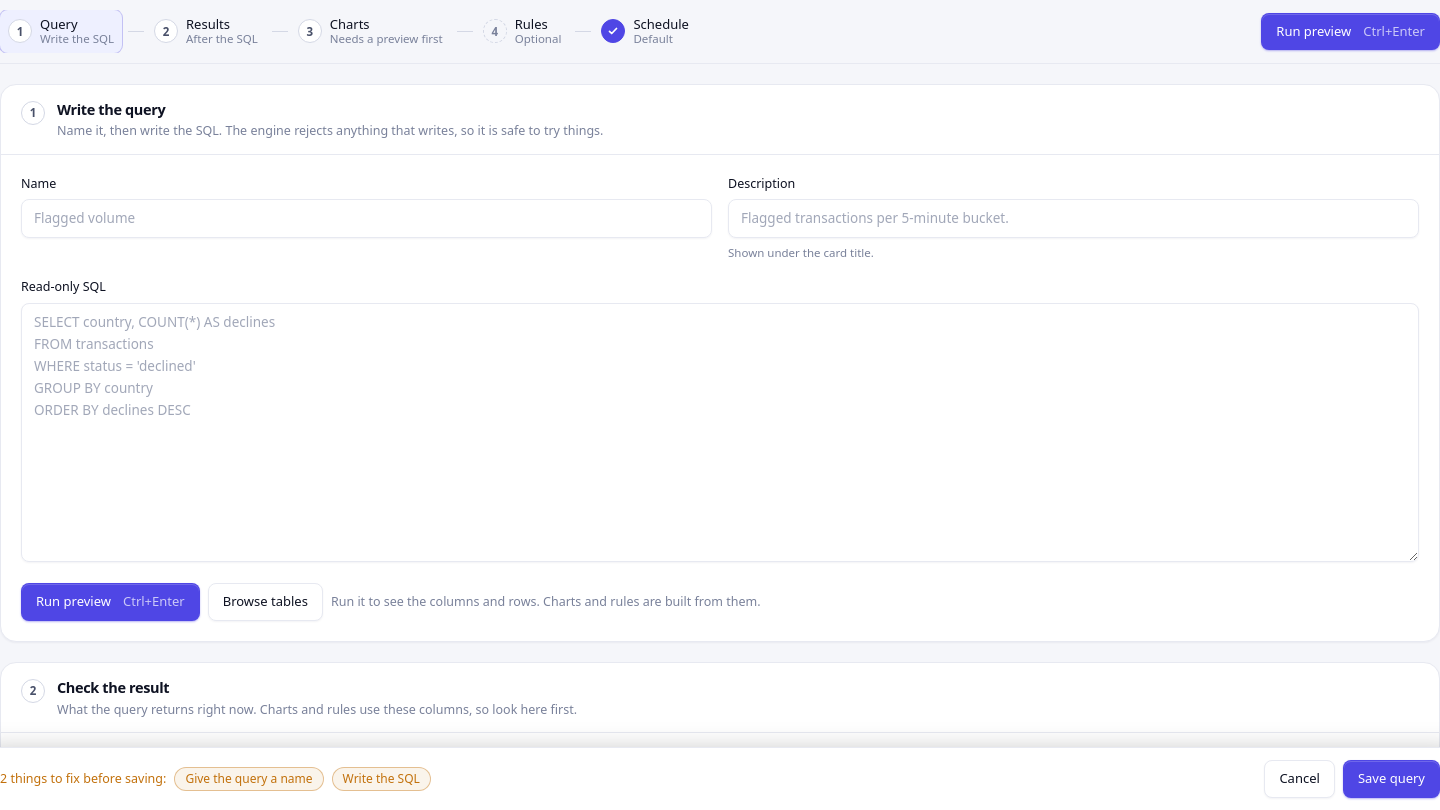
Test: rules, without losing the results › edits rules in a dialog, and the page keeps one line per rule
Step 1. Type "SELECT 1" into the text box labelled "Read-only SQL" → (720, 433), box [21,303,1419,562]
(page scrolled)
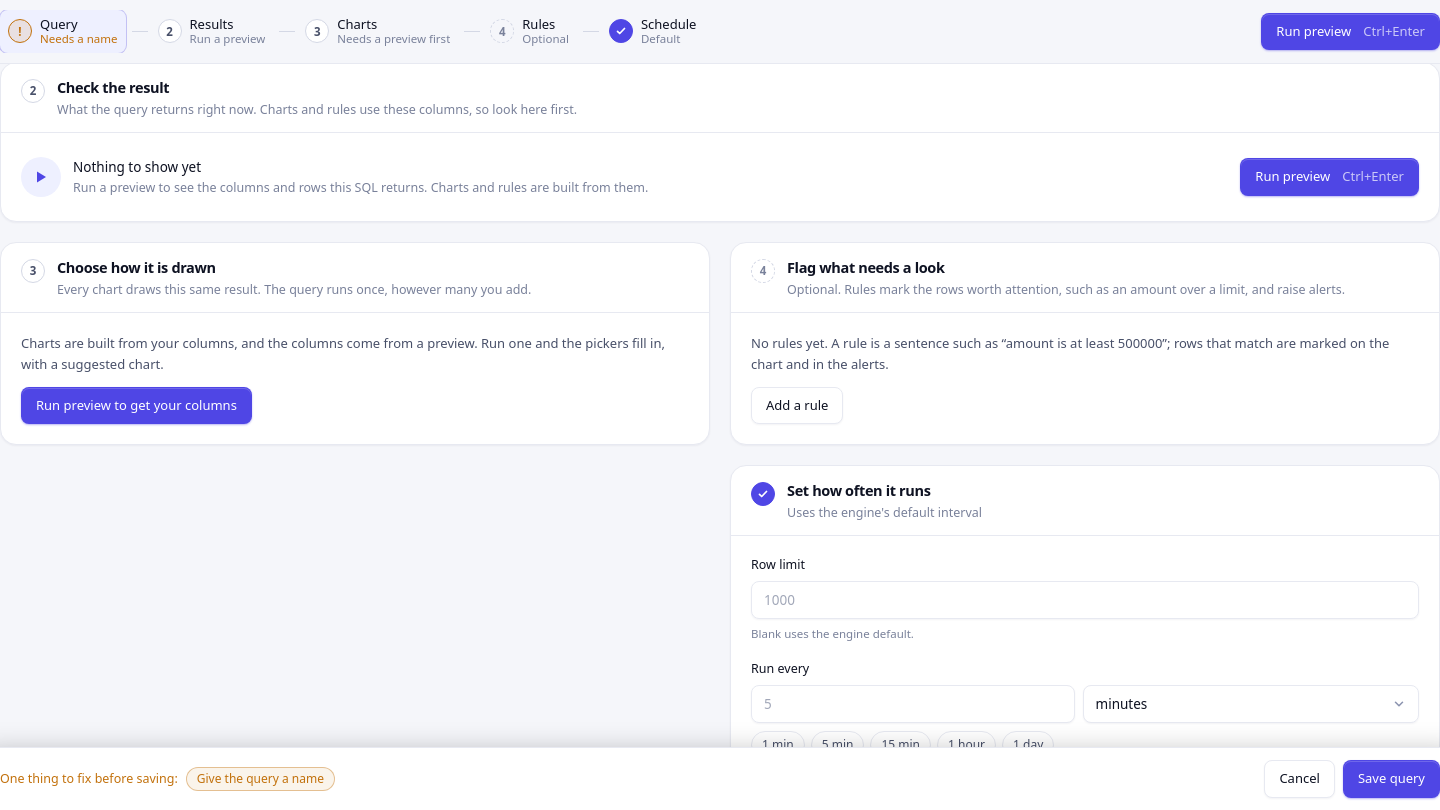
expect the text "No rules yet" is shown: met, box [751,334,1389,373]
Step 2. Click the button "Add a rule" → (797, 406), box [751,387,844,424]
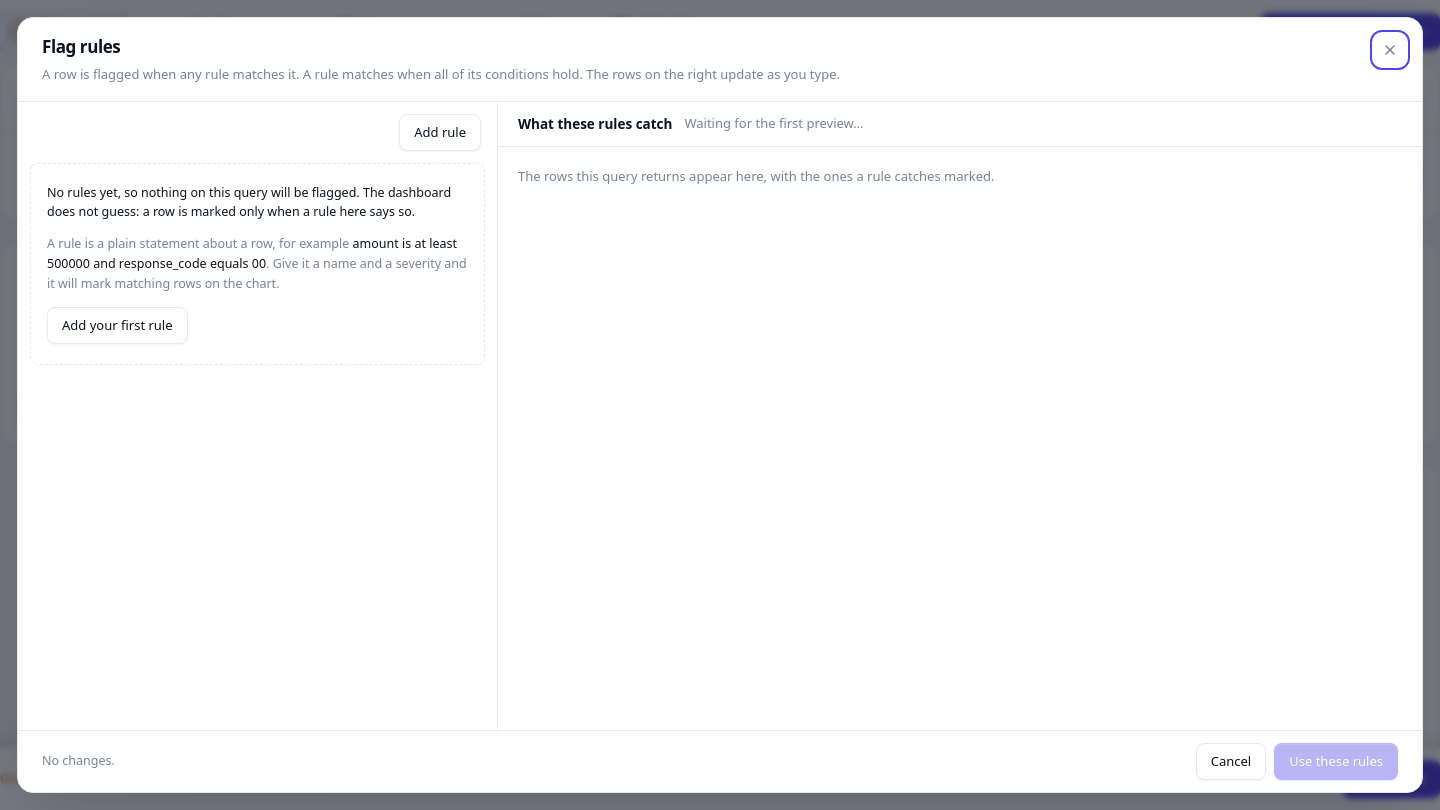
Step 3. Click the button "Add rule" → (440, 132), box [399,114,481,151]
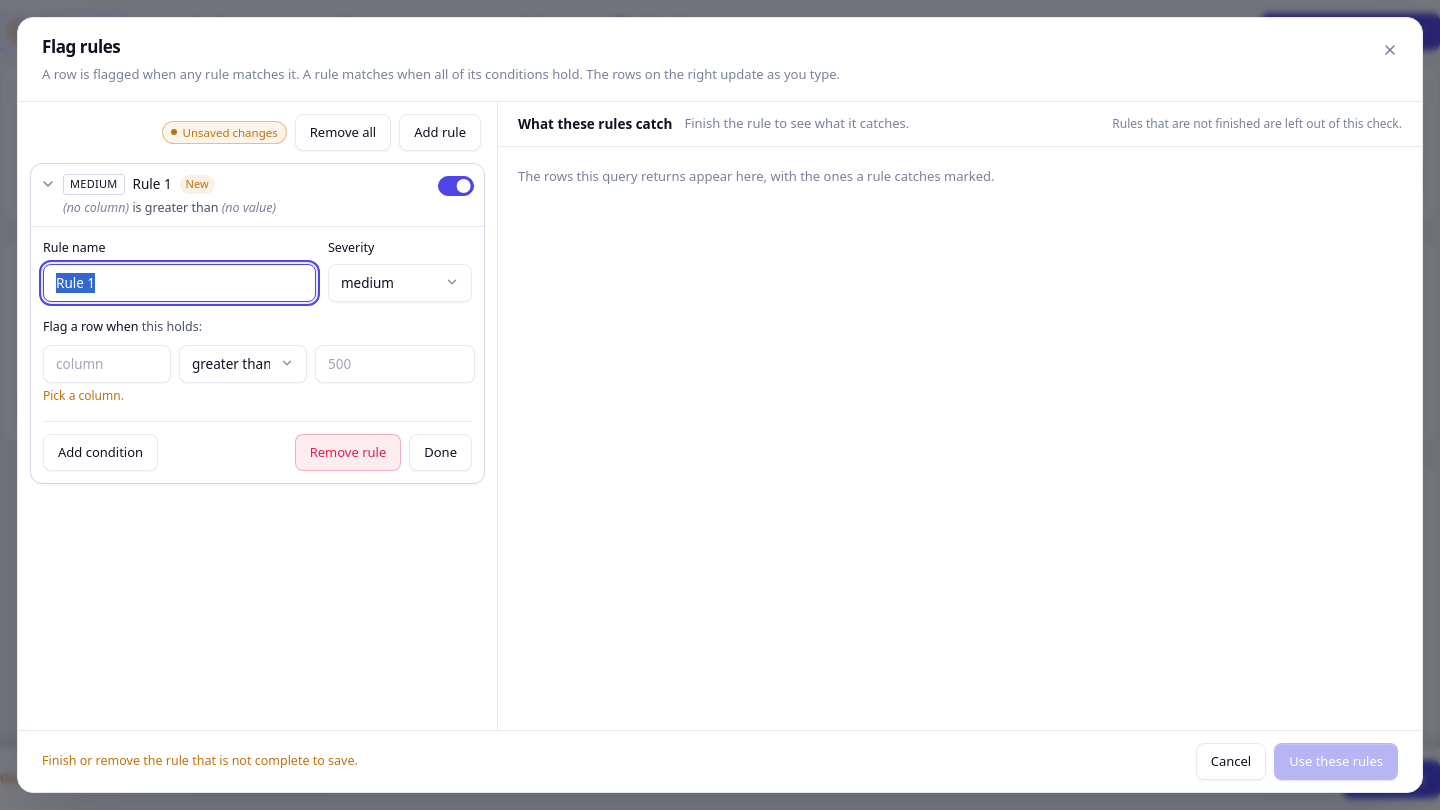
Step 4. Type "transactions" into the field labelled "column" → (107, 364), box [43,345,171,383]
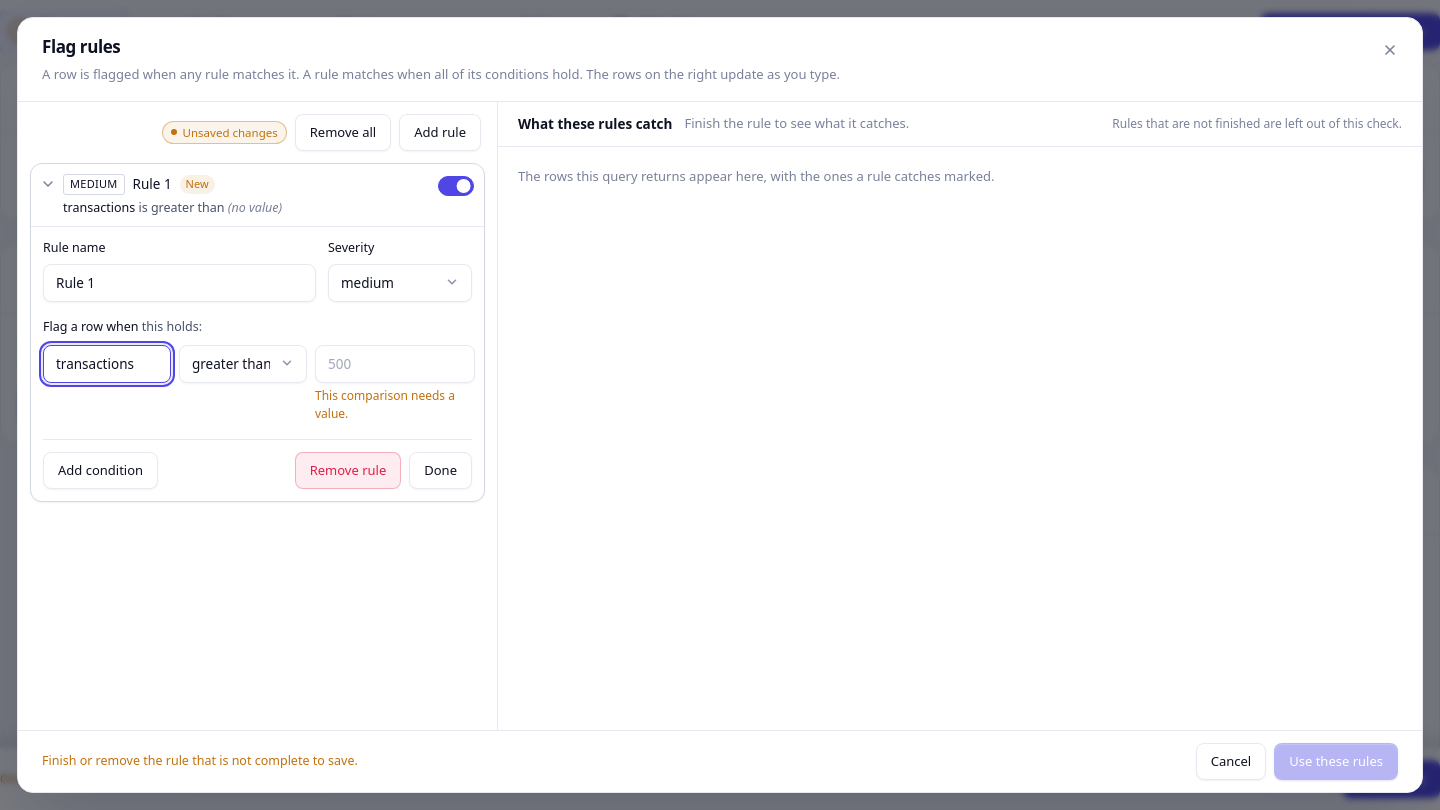
Step 5. Type "100" into the field named "Value" → (395, 364), box [315,345,475,383]
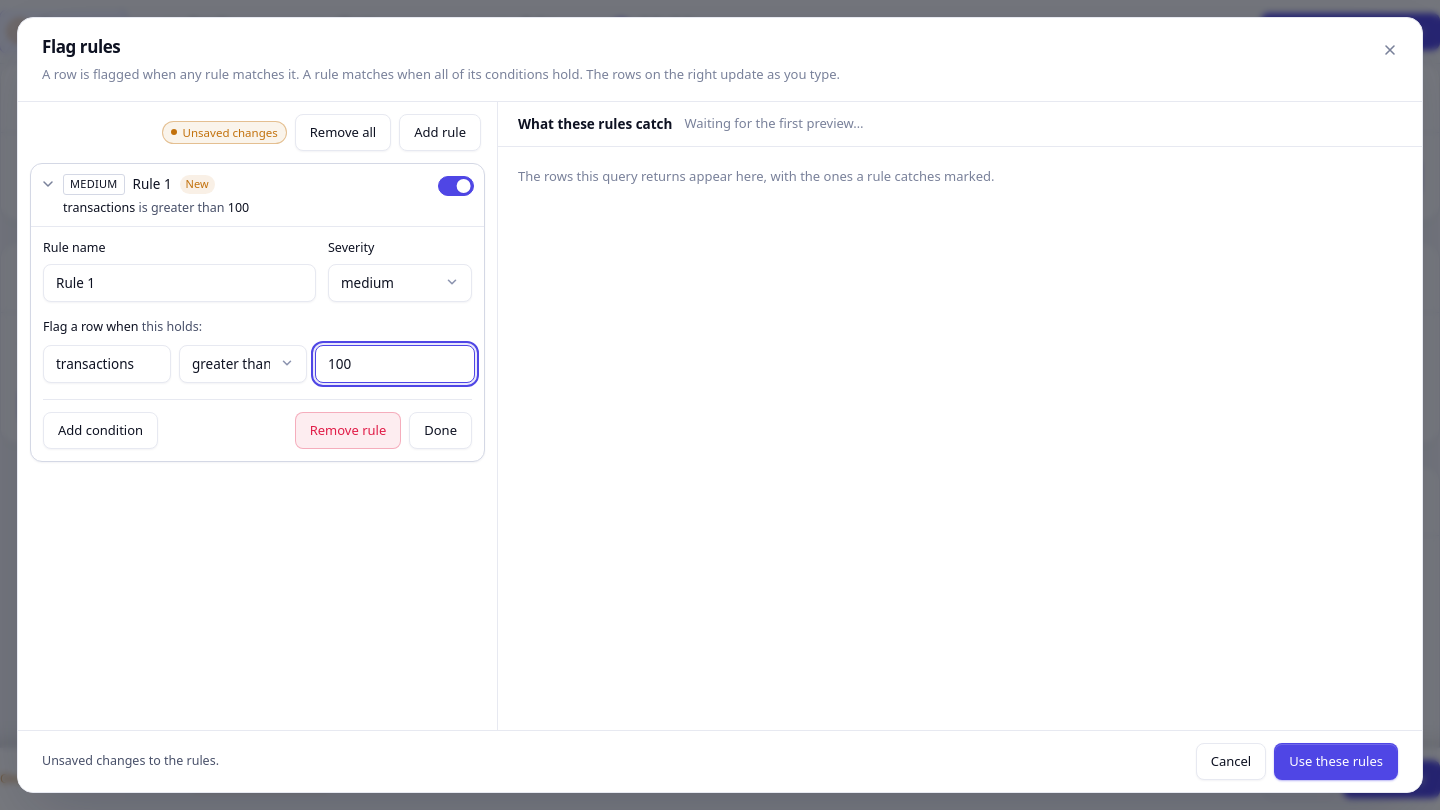
Step 6. Click the button "Use these rules" → (1336, 761), box [1274,742,1398,780]
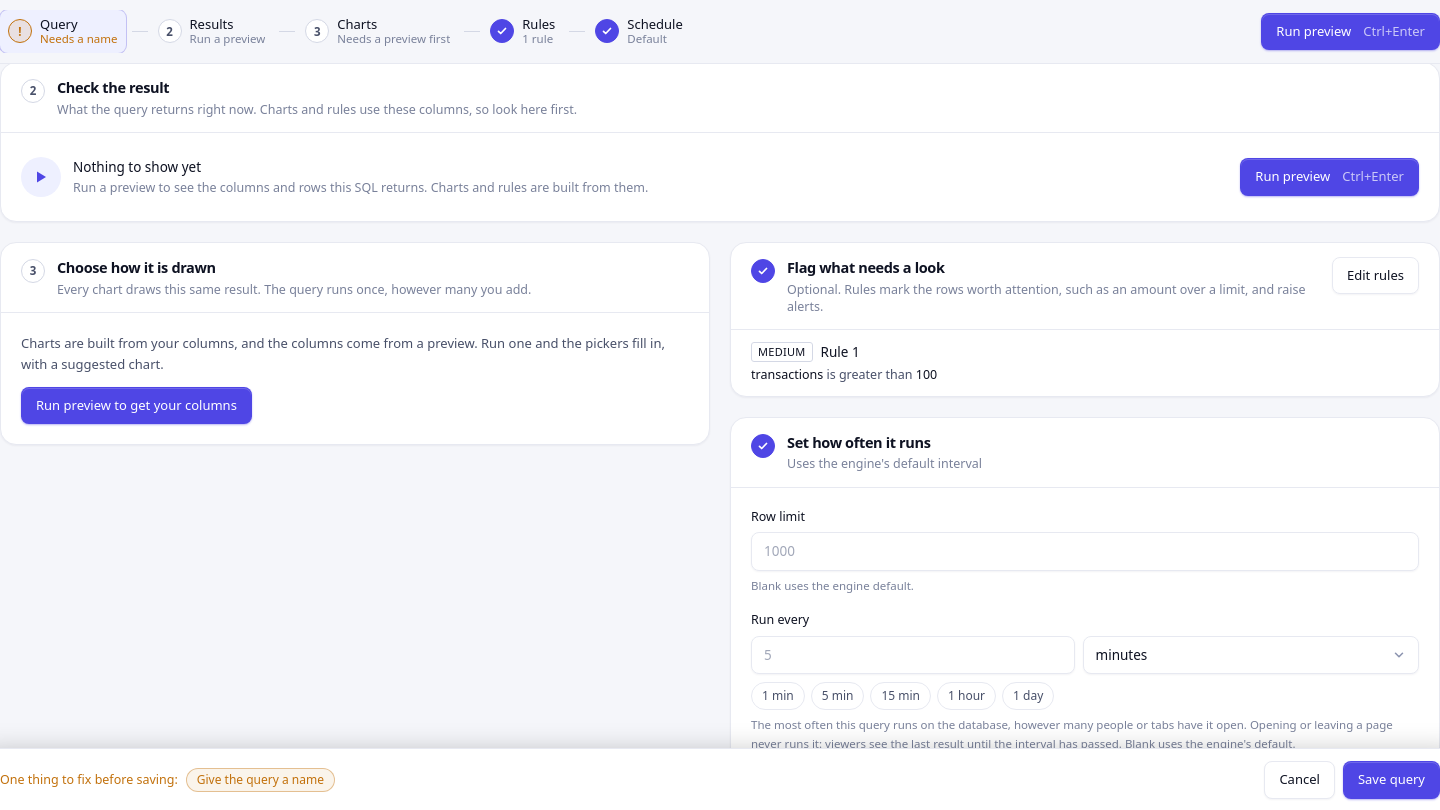
expect the button with aria-label "Rules: done. 1 rule" is shown: met, box [482,10,563,53]
expect the heading "Flag rules" is gone: met
